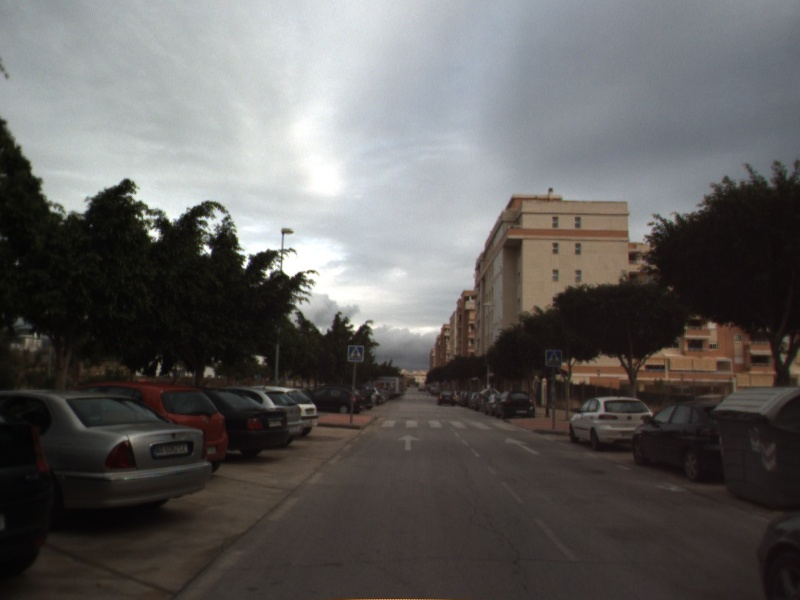STRAIGHT: (502, 435, 541, 456), (396, 432, 422, 452)
